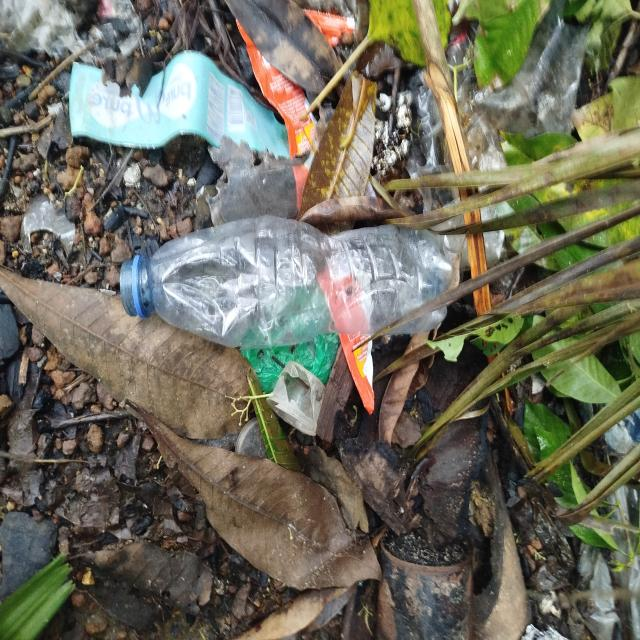plastic: (110, 209, 462, 347)
